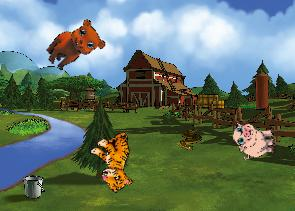bear: (40, 12, 110, 82)
pig: (232, 119, 277, 160)
tiger: (83, 126, 149, 195)
